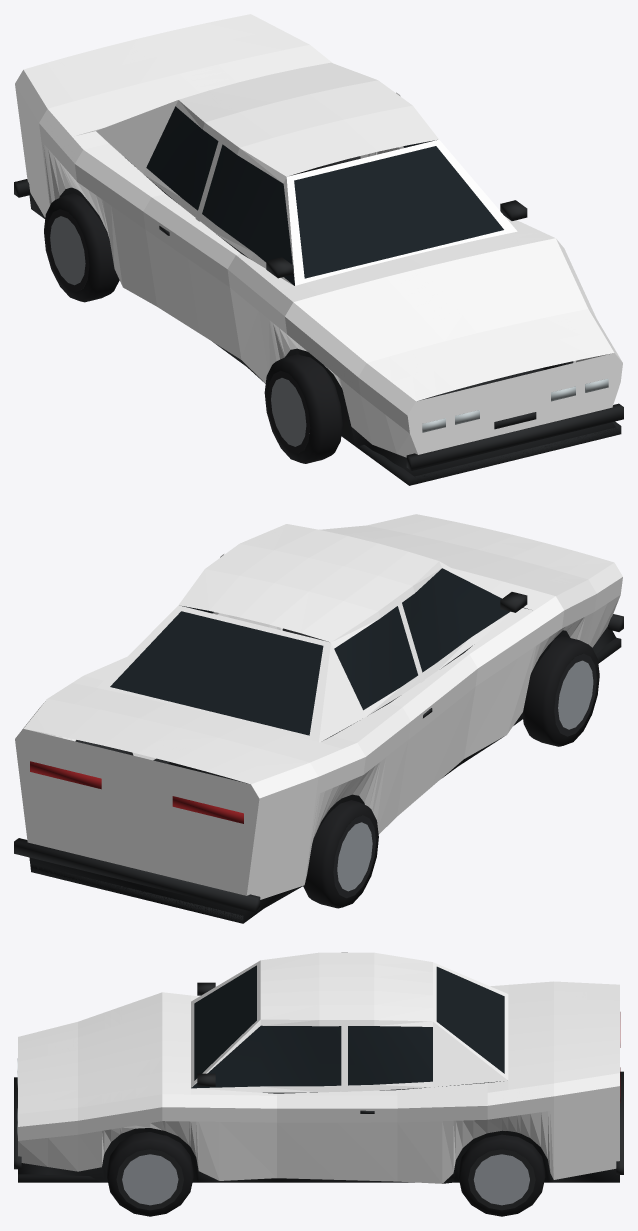
File: castellani_caju.glb
3 renders of one model, top to bottom at view 1: azimuth 30°, elevation 25°; view 2: azimuth 150°, elevation 25°; view 3: azimuth 270°, elevation 25°, orthographic. The views are drawn at different scales.
Parts seen in each view (by area): view 1: Body_Paint, Body_Details, Mount_FrontLeft_Wheel_Details, Mount_RearLeft_Wheel_Details; view 2: Body_Paint, Body_Details, Mount_FrontLeft_Wheel_Details, Mount_RearLeft_Wheel_Details; view 3: Body_Paint, Body_Details, Mount_FrontRight_Wheel_Details, Mount_RearRight_Wheel_Details.
Part boxes in pixels (x1,y1,x2,y2): Body_Paint: (15,14,622,457); Body_Details: (14,106,623,485); Mount_FrontLeft_Wheel_Details: (264,354,342,463); Mount_RearLeft_Wheel_Details: (44,193,119,302); Body_Paint: (15,514,622,899); Body_Details: (14,568,623,923); Mount_FrontLeft_Wheel_Details: (522,636,599,746); Mount_RearLeft_Wheel_Details: (303,800,378,908); Body_Paint: (18,952,619,1183); Body_Details: (14,965,623,1183); Mount_FrontRight_Wheel_Details: (107,1132,193,1216); Mount_RearRight_Wheel_Details: (458,1134,545,1216).
Bounding box in the file's own units: 1.88 × 1.39 × 4.28.
2 materials, 1 textured.
